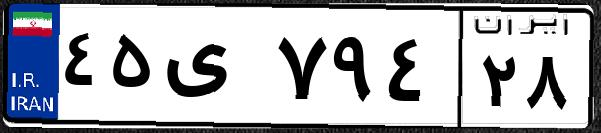2: (475, 38, 525, 113)
4: (385, 28, 445, 110), (57, 26, 110, 100)
5: (110, 28, 158, 98)
7: (270, 28, 330, 110)
8: (525, 38, 570, 115)
9: (330, 28, 385, 110)
ی: (158, 20, 270, 120)
